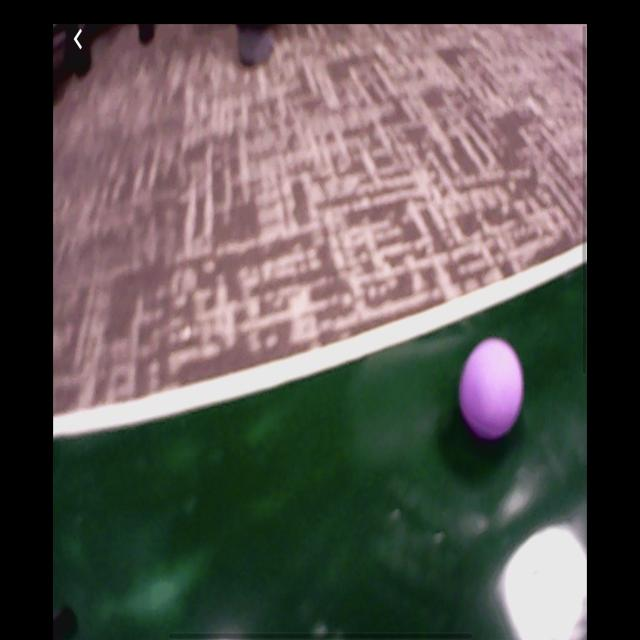ball: (457, 335, 525, 441)
